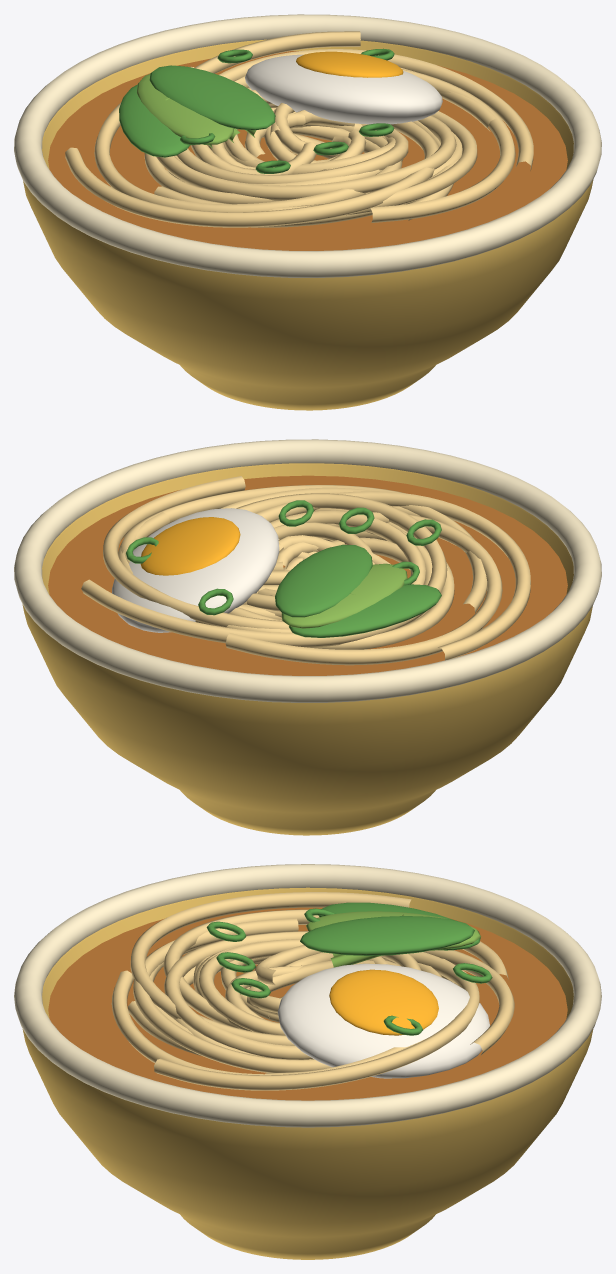
The model's file is noodles.glb.
The picture shows the model from 3 angles, top to bottom: view 1: azimuth 30°, elevation 25°; view 2: azimuth 150°, elevation 25°; view 3: azimuth 270°, elevation 25°; orthographic projection.
Parts seen in each view (by area): view 1: Butter yellow glazed ceramic, Soft egg noodles, Cream ceramic rim, Golden broth, Leaf green, Egg white, Fresh leaf green, Golden egg yolk; view 2: Butter yellow glazed ceramic, Soft egg noodles, Cream ceramic rim, Golden broth, Leaf green, Egg white, Golden egg yolk, Fresh leaf green; view 3: Butter yellow glazed ceramic, Soft egg noodles, Cream ceramic rim, Golden broth, Egg white, Leaf green, Golden egg yolk, Fresh leaf green.
Part boxes in pixels (x1,y1,x2,y2): Butter yellow glazed ceramic: (23,39,593,410); Soft egg noodles: (65,31,533,227); Cream ceramic rim: (14,14,601,277); Golden broth: (48,51,567,250); Leaf green: (119,48,394,173); Egg white: (245,54,442,124); Fresh leaf green: (137,74,256,148); Golden egg yolk: (296,51,403,77); Butter yellow glazed ceramic: (22,463,592,835); Soft egg noodles: (81,476,530,665); Cream ceramic rim: (14,439,601,702); Golden broth: (48,475,567,675); Leaf green: (126,500,441,637); Egg white: (112,508,279,632); Golden egg yolk: (140,517,240,575); Fresh leaf green: (281,563,407,628); Butter yellow glazed ceramic: (22,887,593,1259); Soft egg noodles: (111,892,514,1090); Cream ceramic rim: (14,864,601,1127); Golden broth: (48,907,567,1100); Egg white: (277,963,489,1078); Leaf green: (206,902,492,1035); Golden egg yolk: (329,969,438,1035); Fresh leaf green: (306,911,480,967).
Size of the model in its own units: 0.2213 by 0.1087 by 0.2213.
